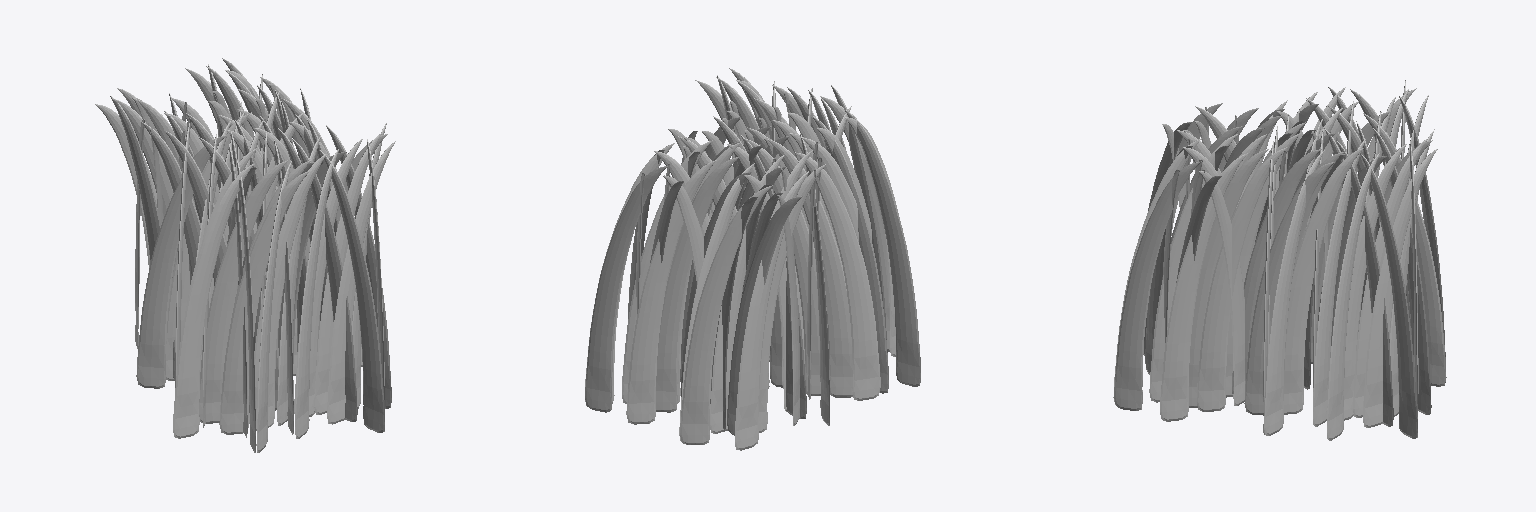
Rendered from MediumPolyGrass.obj.
The picture shows the model from 3 angles: view 1: azimuth 30°, elevation 25°; view 2: azimuth 150°, elevation 25°; view 3: azimuth 270°, elevation 25°; orthographic projection.
Parts seen in each view (by area): view 1: Plane; view 2: Plane; view 3: Plane.
Part boxes in pixels (x1,y1,x2,y2): Plane: (95,58,395,452); Plane: (585,68,920,450); Plane: (1113,80,1446,440).
Size of the model in its own units: 1.76 by 1.84 by 2.14.